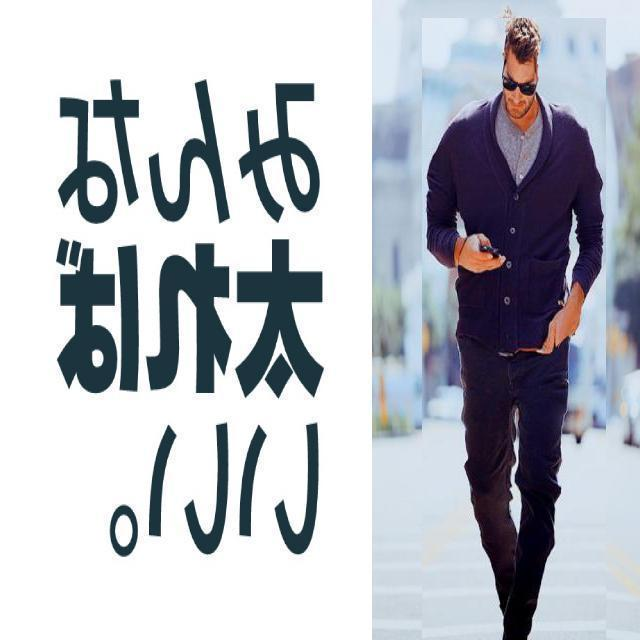direk: (422, 18, 606, 640)
